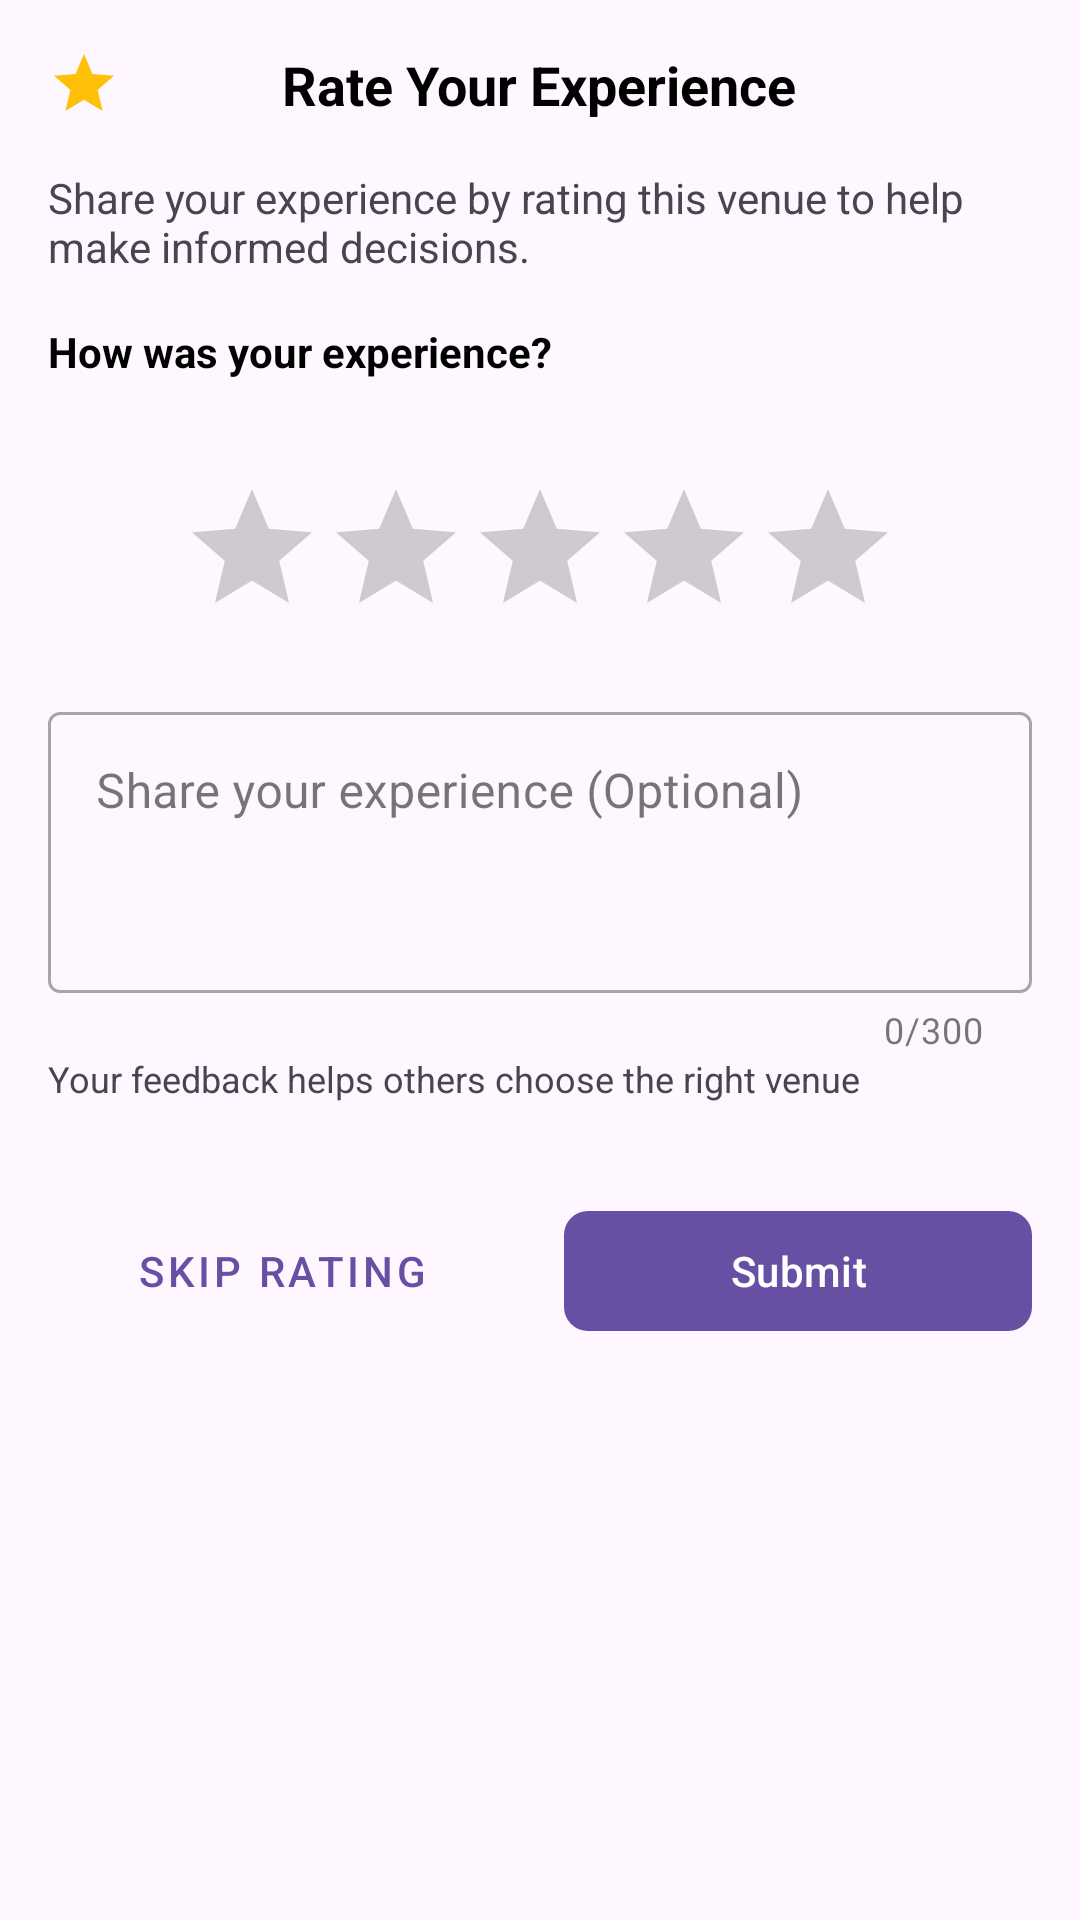

Icons on this 1080 × 1920 Android screen, each with the point to tap as point (x, y):
star: point (84, 82)
